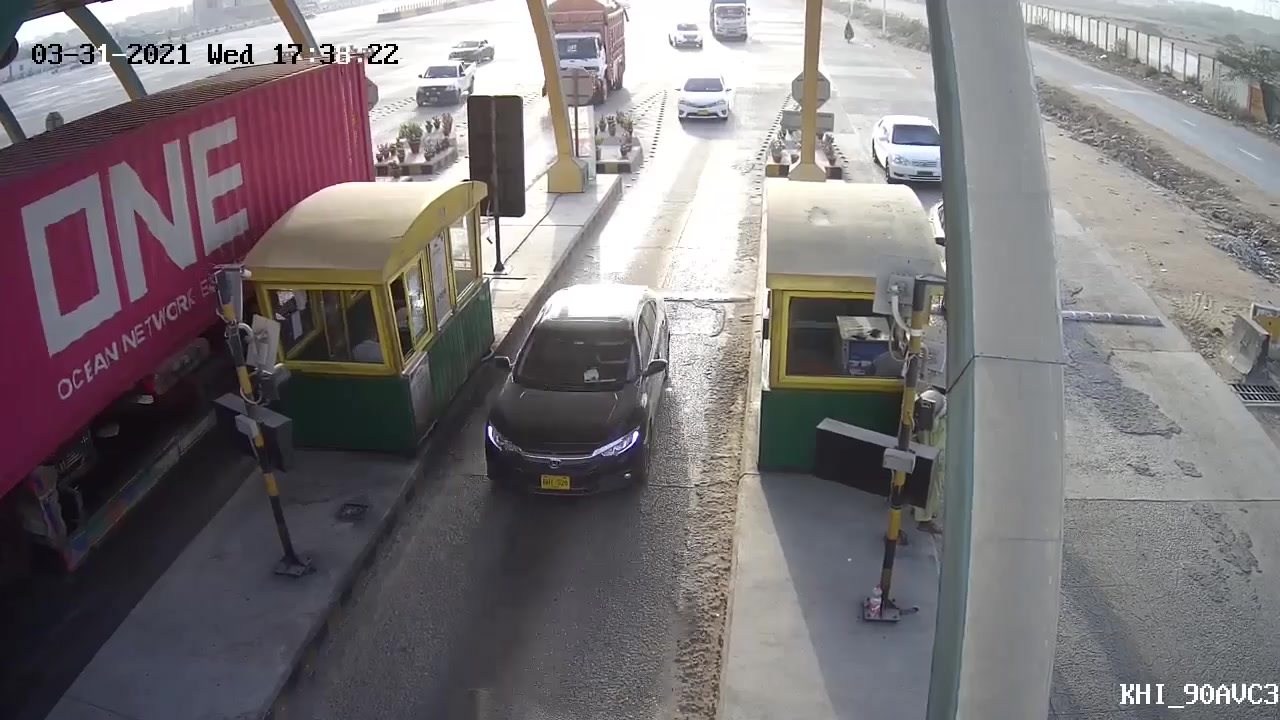F1: (481, 285, 682, 526)
